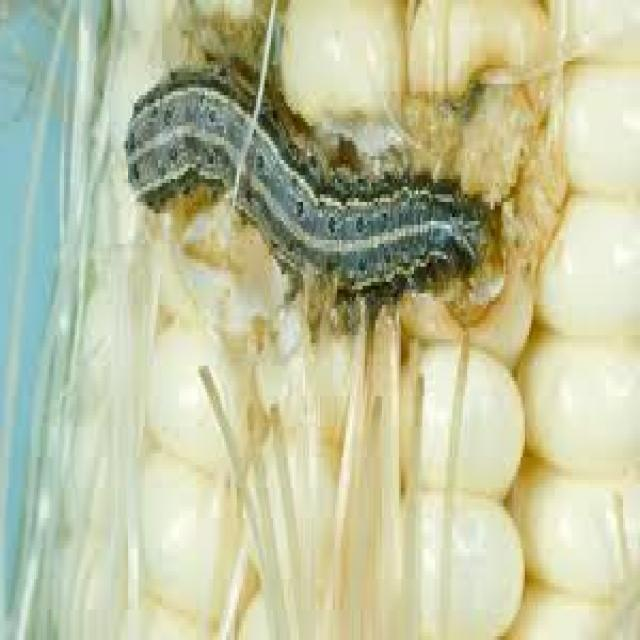armyworm: (117, 50, 509, 323)
